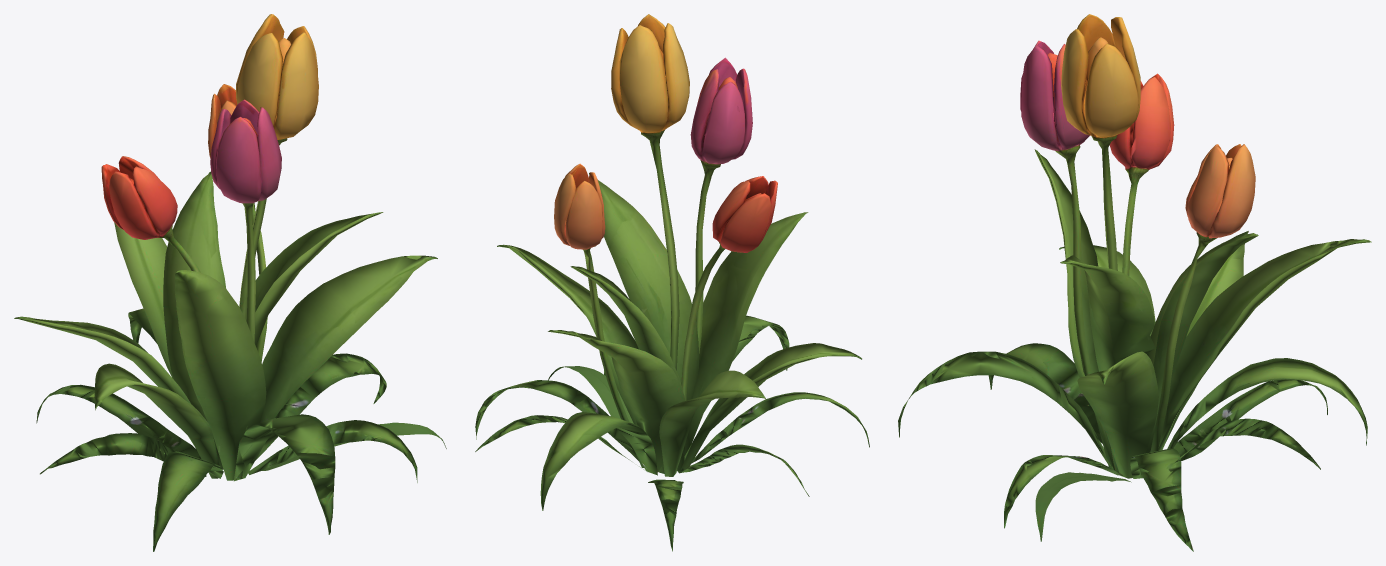
The picture shows the model from 3 angles, left to right: view 1: azimuth 30°, elevation 25°; view 2: azimuth 150°, elevation 25°; view 3: azimuth 270°, elevation 25°; orthographic projection. The views are drawn at different scales.
Parts seen in each view (by area): view 1: tripo_node_82a2208b-da86-4c16-a006-ac2853b905e9; view 2: tripo_node_82a2208b-da86-4c16-a006-ac2853b905e9; view 3: tripo_node_82a2208b-da86-4c16-a006-ac2853b905e9.
Part boxes in pixels (x1=…): tripo_node_82a2208b-da86-4c16-a006-ac2853b905e9: x1=14, y1=14, x2=446, y2=551; tripo_node_82a2208b-da86-4c16-a006-ac2853b905e9: x1=475, y1=14, x2=869, y2=551; tripo_node_82a2208b-da86-4c16-a006-ac2853b905e9: x1=898, y1=14, x2=1371, y2=551.
Size of the model in its own units: 0.834 by 0.998 by 0.9082.
1 material, 1 textured.
